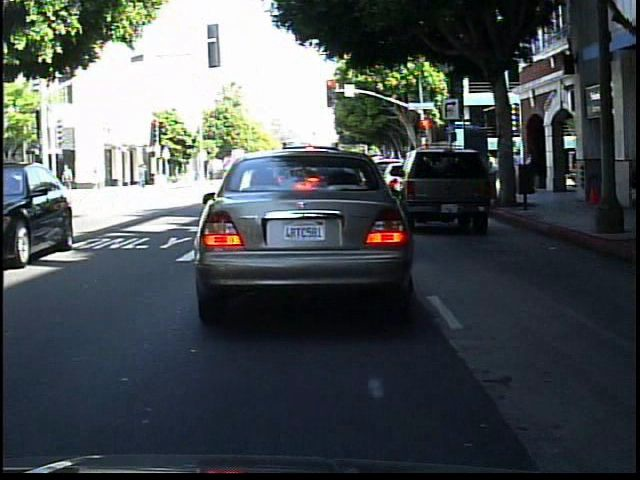person: (618, 141, 639, 220), (590, 144, 612, 217), (48, 163, 61, 206), (62, 161, 77, 197), (32, 168, 46, 206), (135, 162, 152, 192)
